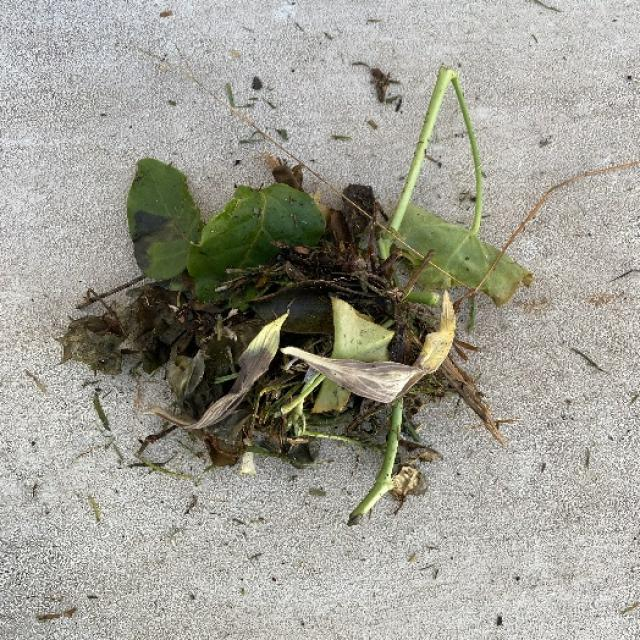organik: (98, 80, 520, 485)
